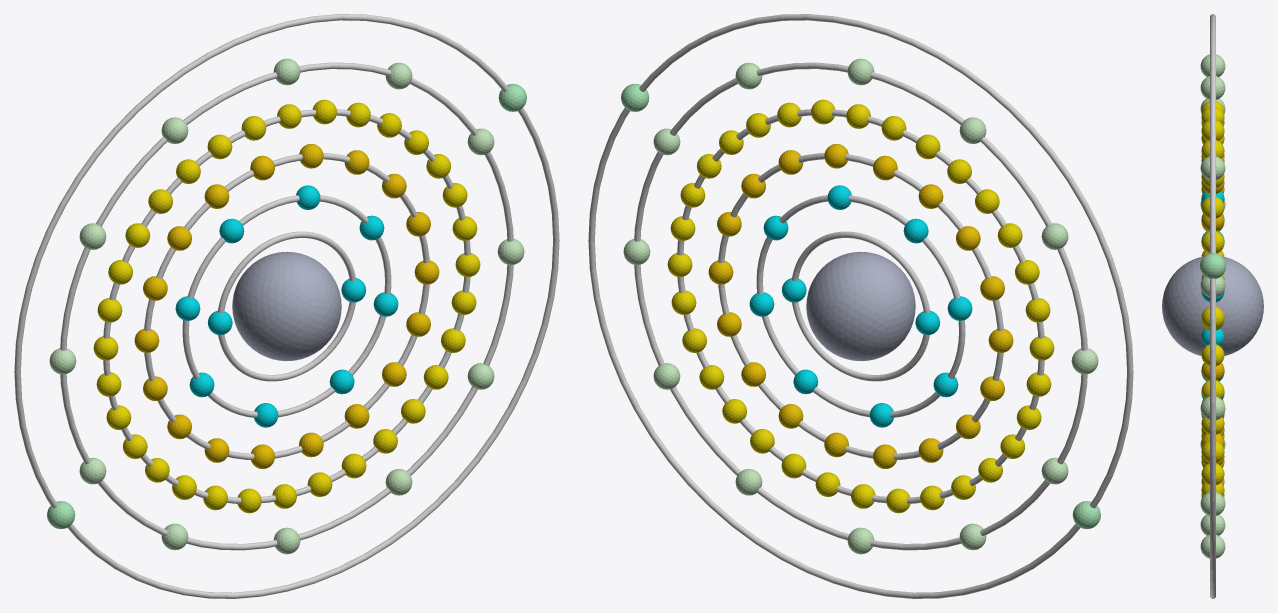
The picture shows the model from 3 angles, left to right: view 1: azimuth 30°, elevation 25°; view 2: azimuth 150°, elevation 25°; view 3: azimuth 270°, elevation 25°; orthographic projection. The views are drawn at different scales.
Parts seen in each view (by area): view 1: world; view 2: world; view 3: world.
Boxes of the visible parts, x1=… form: world: x1=14, y1=14, x2=559, y2=598; world: x1=588, y1=14, x2=1133, y2=598; world: x1=1162, y1=14, x2=1263, y2=598.
Size of the model in its own units: 2.53 by 2.53 by 0.44.
